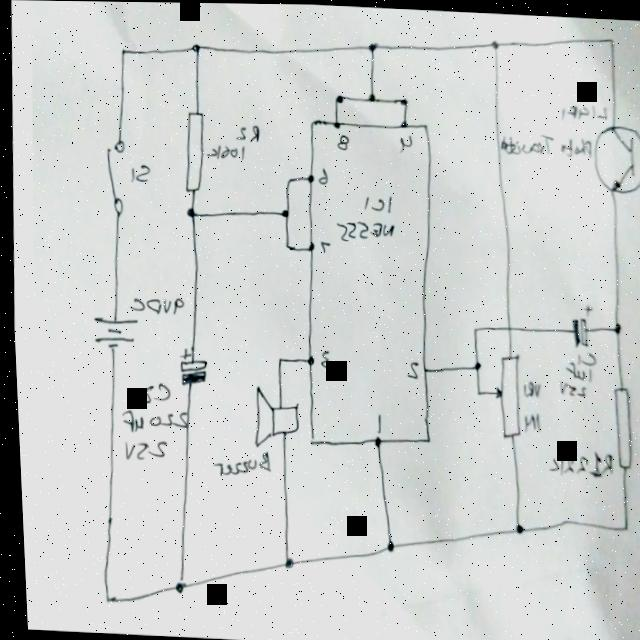capacitor: (173, 345, 207, 389), (566, 300, 592, 347)
crossover: (498, 317, 513, 334)
junction: (606, 34, 617, 47), (609, 320, 620, 333), (616, 518, 627, 531), (470, 382, 481, 395), (381, 538, 392, 551), (279, 238, 290, 251), (282, 171, 293, 184), (184, 204, 195, 217), (489, 36, 499, 49), (367, 38, 377, 51), (366, 90, 376, 103), (400, 93, 410, 106), (333, 90, 343, 103), (510, 520, 520, 533), (467, 322, 477, 335), (469, 357, 479, 370), (279, 554, 289, 567), (272, 352, 282, 365), (170, 579, 180, 592), (97, 591, 107, 604), (278, 204, 288, 217), (120, 45, 130, 58), (191, 39, 201, 52)
resistor: (486, 348, 521, 439), (179, 107, 207, 195), (606, 383, 633, 469)
source: (89, 313, 137, 351)
switch: (101, 134, 131, 217)
text: (114, 377, 186, 463), (332, 190, 395, 245), (497, 127, 592, 158), (204, 119, 262, 161), (207, 444, 268, 480), (553, 347, 597, 396), (543, 446, 611, 476), (126, 292, 184, 316), (567, 101, 608, 121), (128, 159, 150, 184), (518, 377, 540, 399), (519, 408, 538, 431), (396, 130, 414, 153), (402, 357, 418, 379), (334, 131, 350, 151), (315, 345, 328, 369), (315, 165, 328, 185), (370, 410, 380, 433), (316, 237, 330, 253)
transistor: (588, 117, 640, 196)
